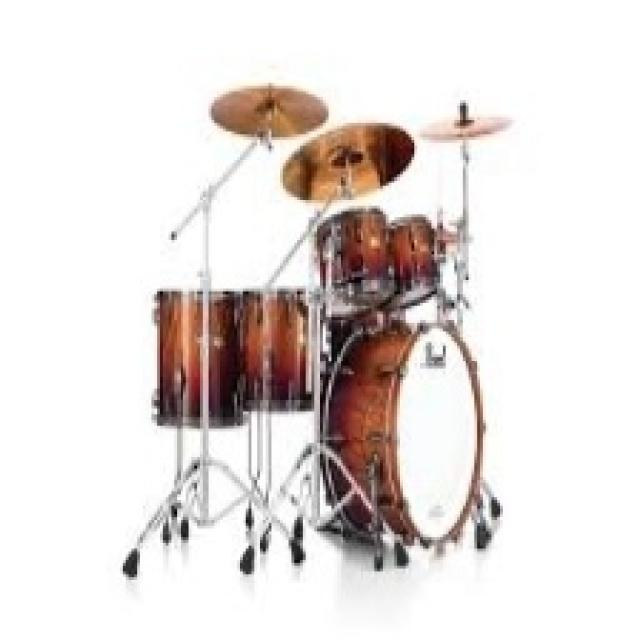drums: (116, 81, 517, 579)
